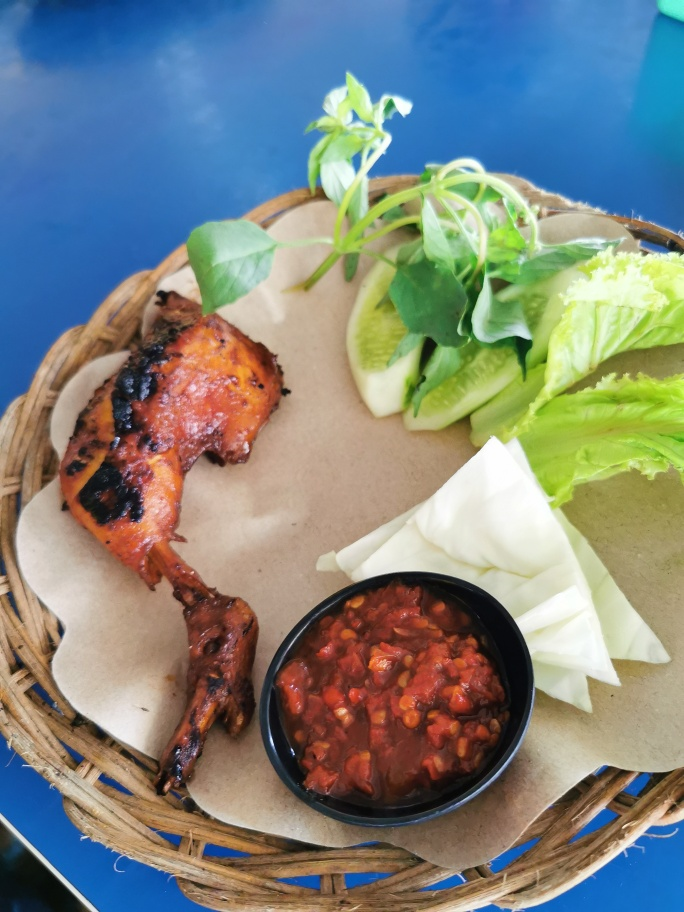ayam bakar: (55, 288, 294, 806)
